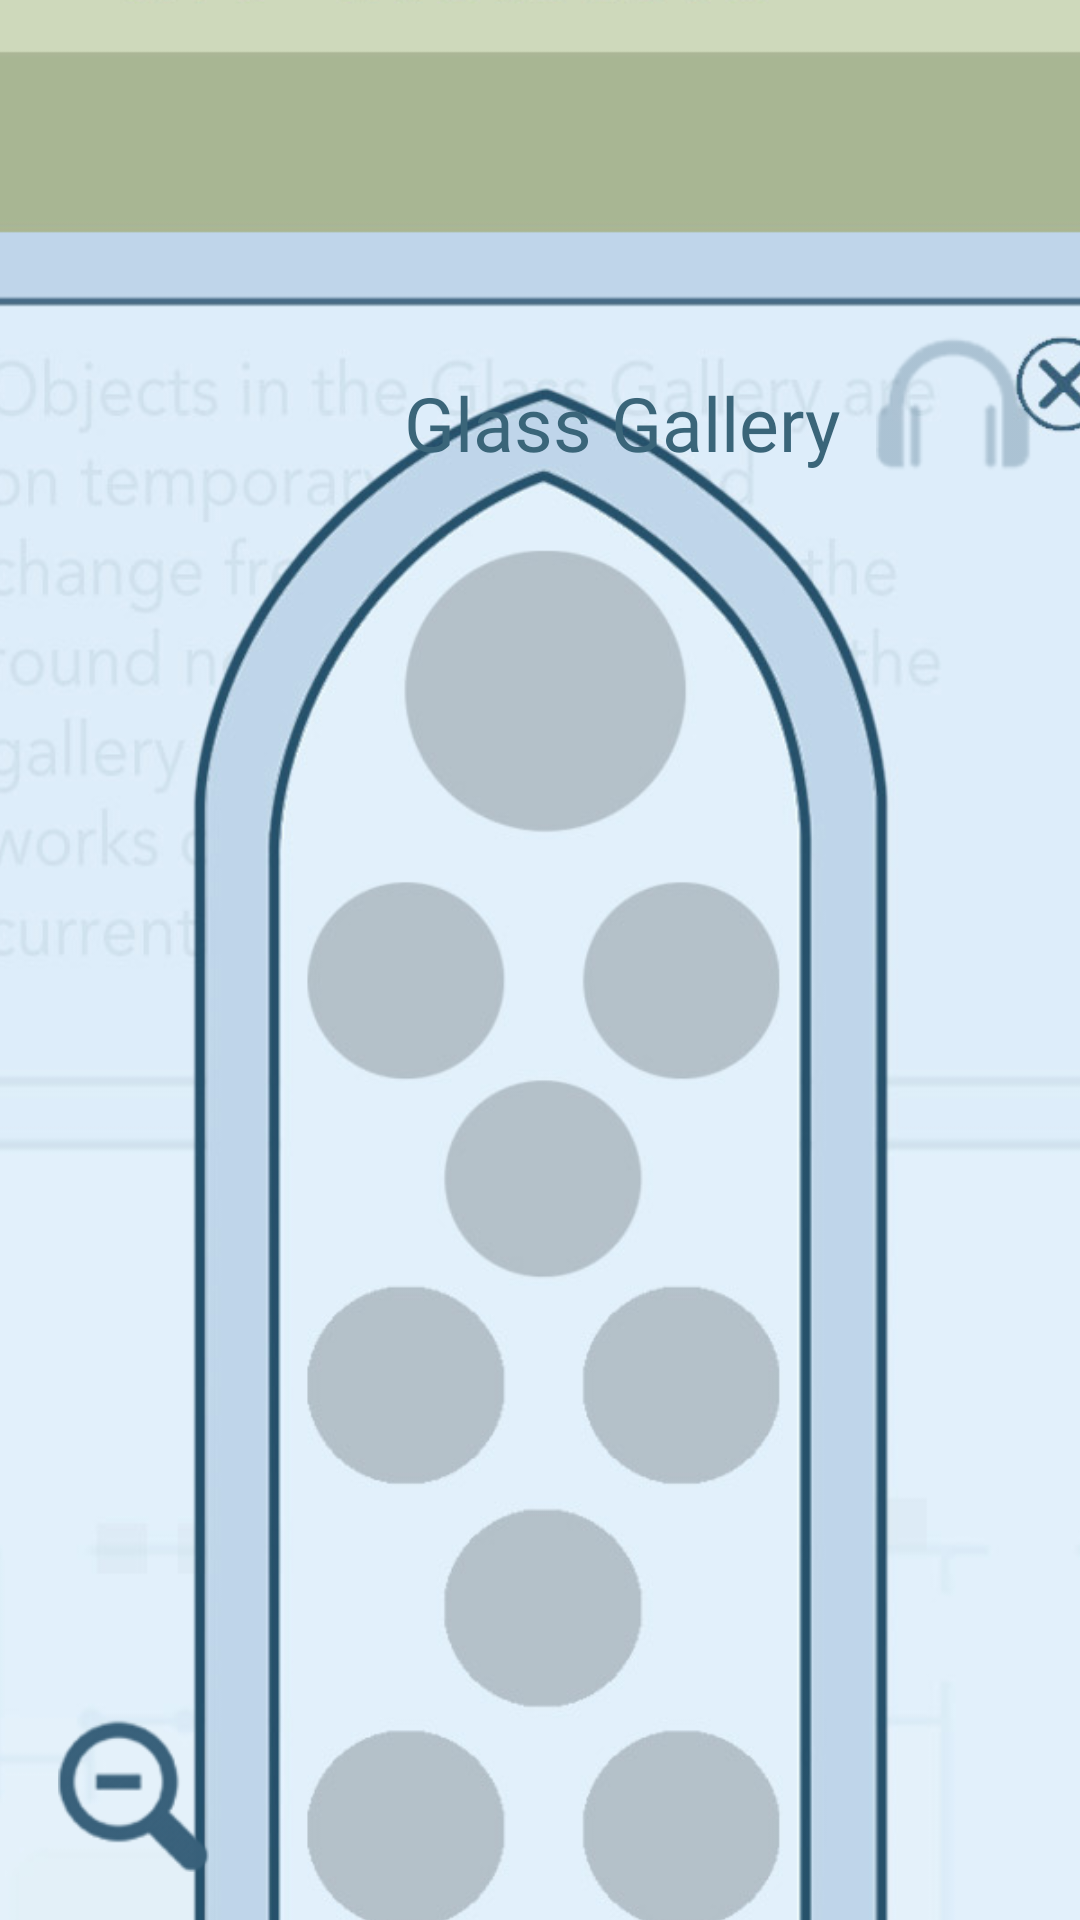

Point at icon controls on the screen. Image size 1080 x 1920, points as (x=x, y=y).
Podcast Inactive: (x=954, y=403)
Zoom Out: (x=138, y=1795)
